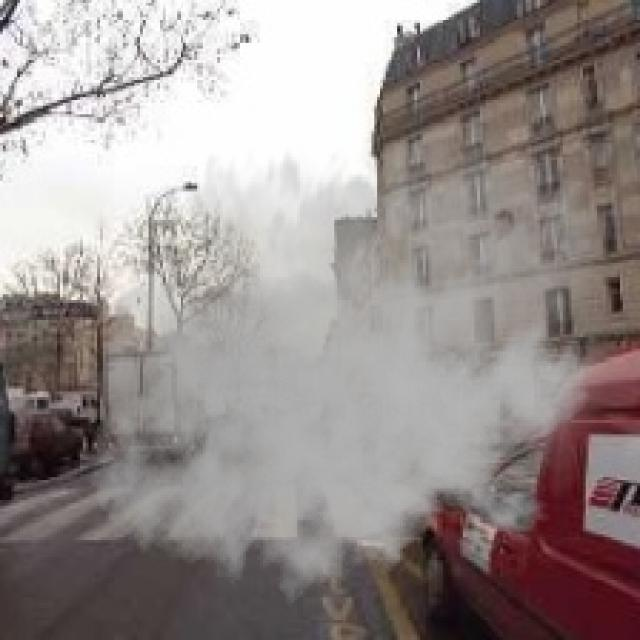smoke: (89, 91, 637, 623)
